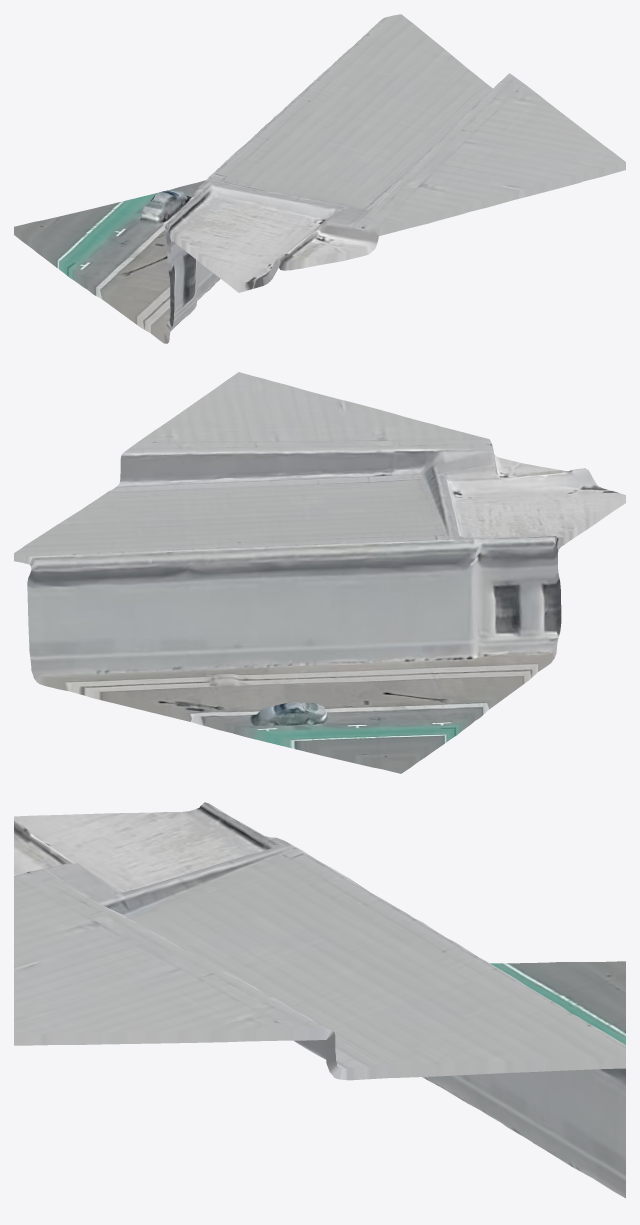
Rendered from z20-167771-405194-h0-yup-uvflip-v3-world.glb.
3 views of the same model, one above another, from view 1: azimuth 30°, elevation 25°; view 2: azimuth 150°, elevation 25°; view 3: azimuth 270°, elevation 25° (orthographic). The views are drawn at different scales.
Bounding box in the file's own units: 30.16 × 11.08 × 30.32.
1 material, 1 textured.
